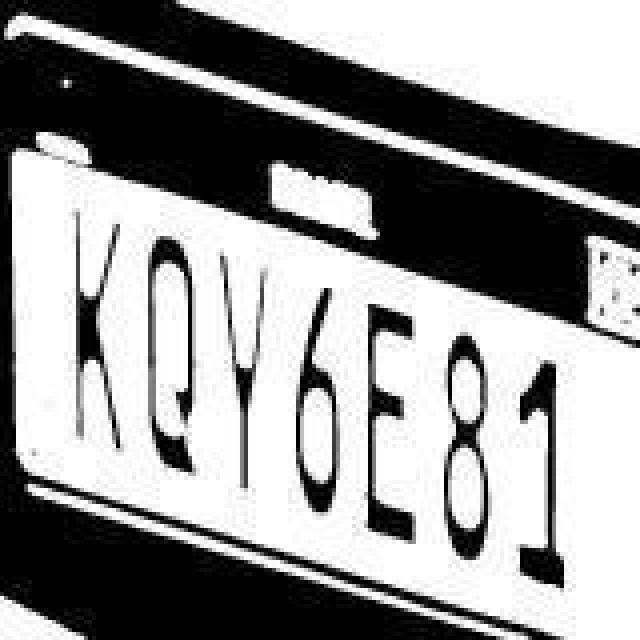1: (508, 356, 572, 596)
6: (290, 276, 350, 524)
8: (440, 328, 504, 568)
E: (356, 298, 428, 550)
K: (60, 206, 132, 466)
Q: (142, 234, 210, 478)
Y: (216, 246, 280, 498)
